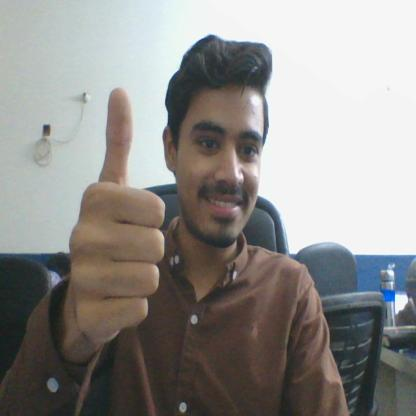thumbs-up: (64, 89, 173, 328)
